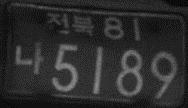1: (87, 46, 105, 95), (130, 16, 143, 44)
5: (50, 42, 80, 93)
8: (115, 50, 144, 96), (102, 15, 124, 41)
9: (149, 50, 178, 100)
나: (14, 39, 45, 76)
전북_O: (45, 11, 94, 39)
